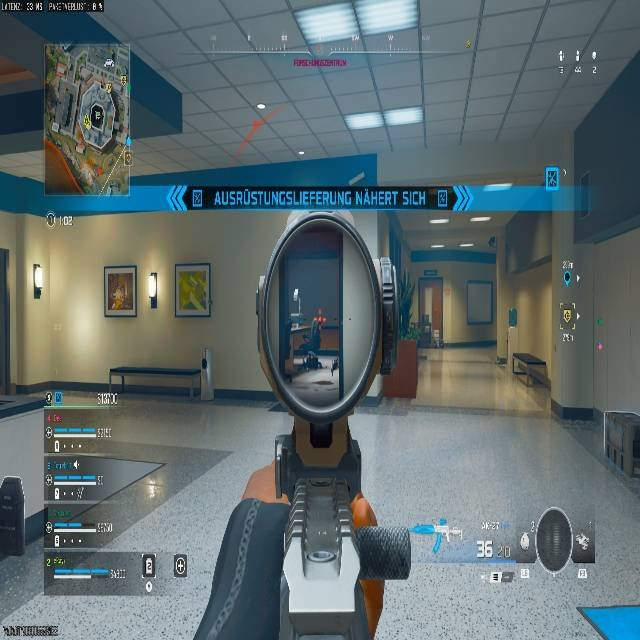player: (330, 355, 339, 376)
